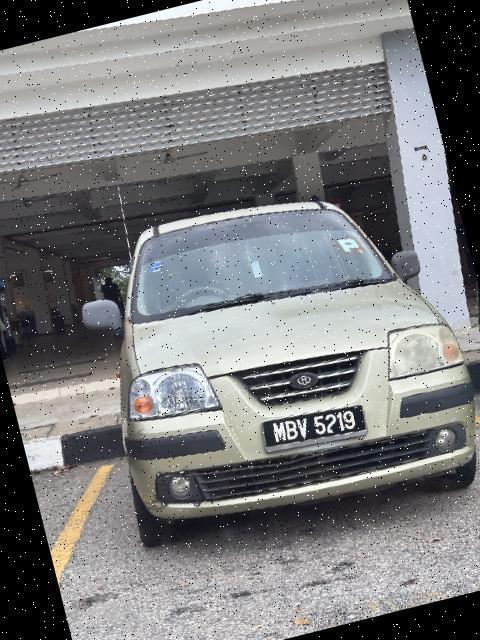License_Plate: (259, 396, 372, 464)
MBV5219: (259, 396, 372, 464)
car: (47, 154, 480, 579)
